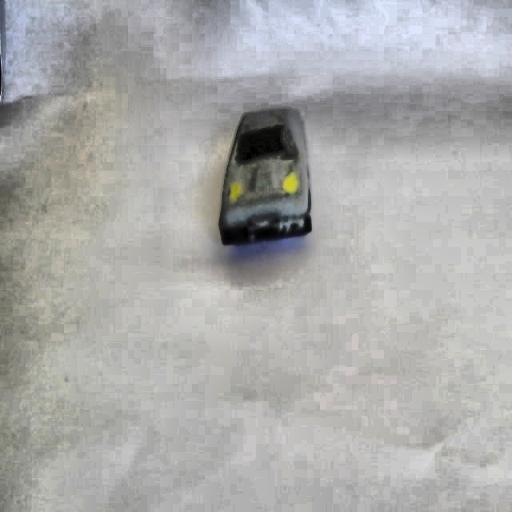normal_car: (215, 104, 315, 246)
